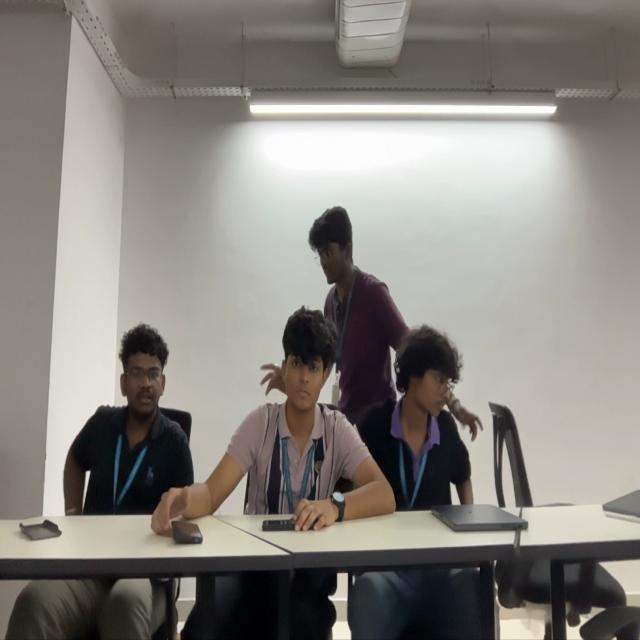Isolated: (64, 321, 191, 523)
socializing: (205, 198, 491, 508)
